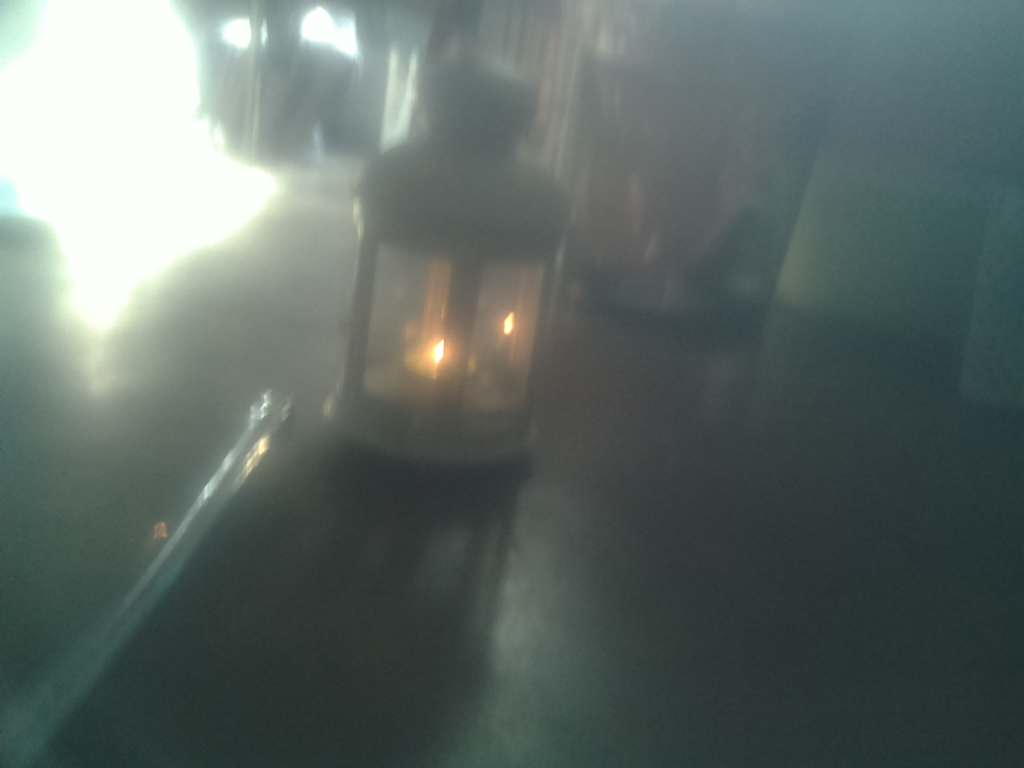fire: (397, 301, 478, 396)
